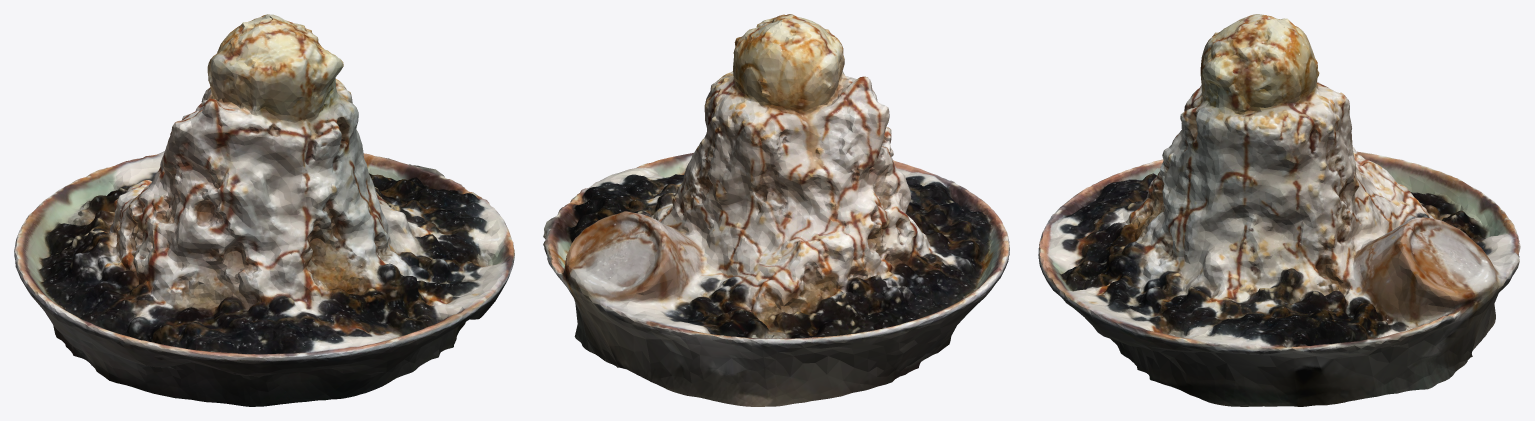
3 views of the same model, side by side, from view 1: azimuth 30°, elevation 25°; view 2: azimuth 150°, elevation 25°; view 3: azimuth 270°, elevation 25° (orthographic). The views are drawn at different scales.
Size of the model in its own units: 1.13 by 0.7838 by 1.13.
1 material, 1 textured.
